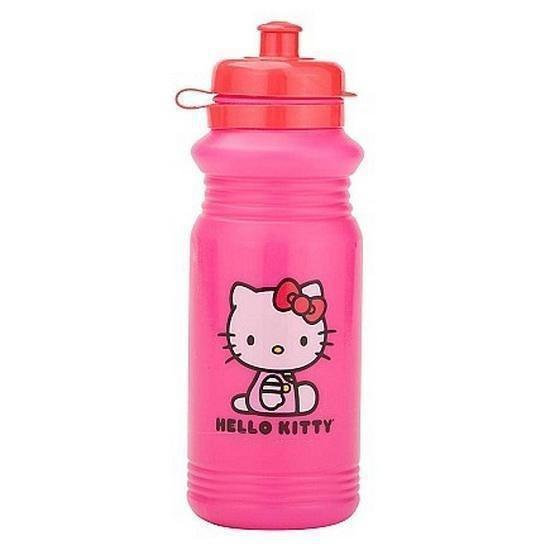gym bottle: (180, 16, 367, 538)
